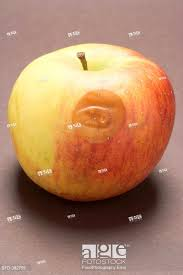damaged_apple: (11, 46, 175, 203)
